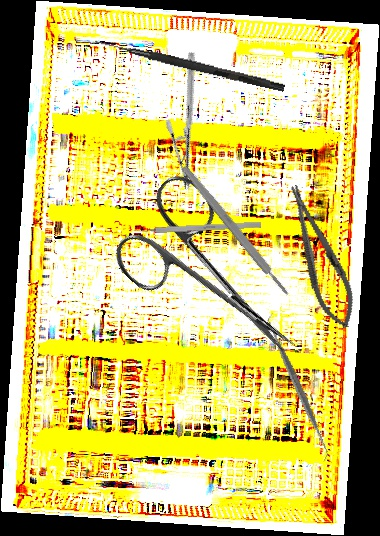Hook Surgical: (93, 38, 286, 92), (130, 221, 262, 235)
Iris Scissors: (100, 167, 330, 390)
Needle Holder: (129, 50, 249, 192), (276, 178, 365, 335)
Scalpel Handle: (179, 163, 292, 299)
Spatula Surgical: (222, 312, 374, 463)
